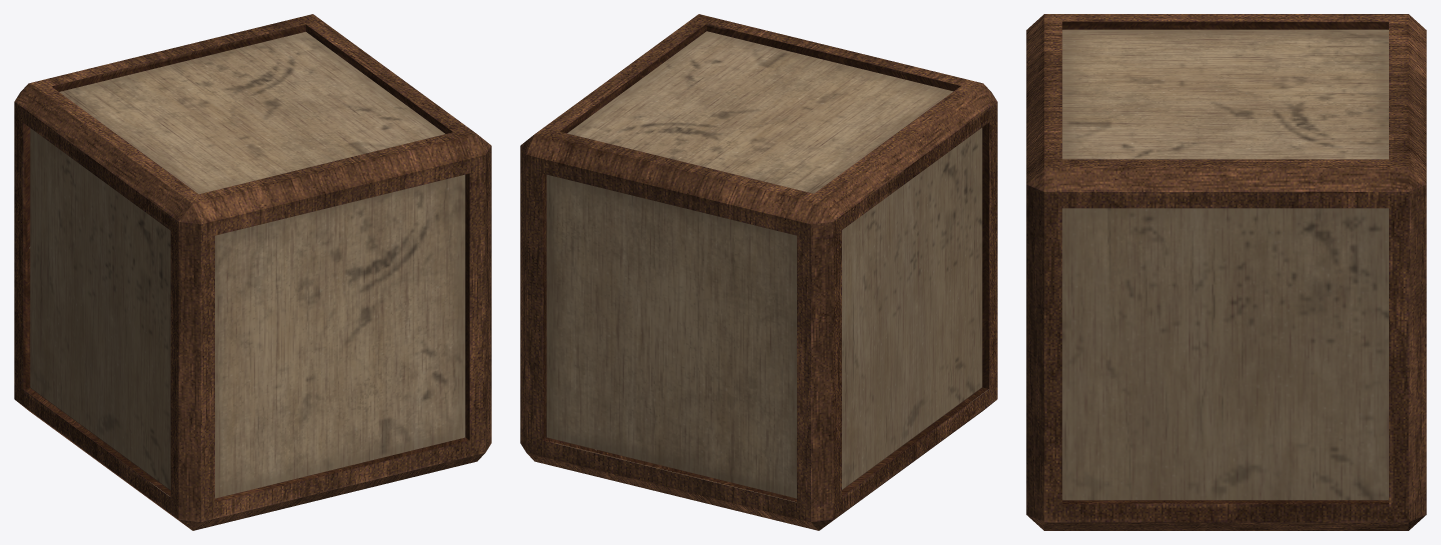
3 renders of one model, left to right at view 1: azimuth 30°, elevation 25°; view 2: azimuth 150°, elevation 25°; view 3: azimuth 270°, elevation 25°, orthographic. The views are drawn at different scales.
Parts seen in each view (by area): view 1: polySurface2; view 2: polySurface2; view 3: polySurface2.
Part boxes in pixels (x1,y1,x2,y2): polySurface2: (14,14,491,530); polySurface2: (520,14,997,530); polySurface2: (1026,14,1426,530).
Size of the model in its own units: 0.0277 by 0.0277 by 0.0277.
Materials: 1 (1 with a texture image).
